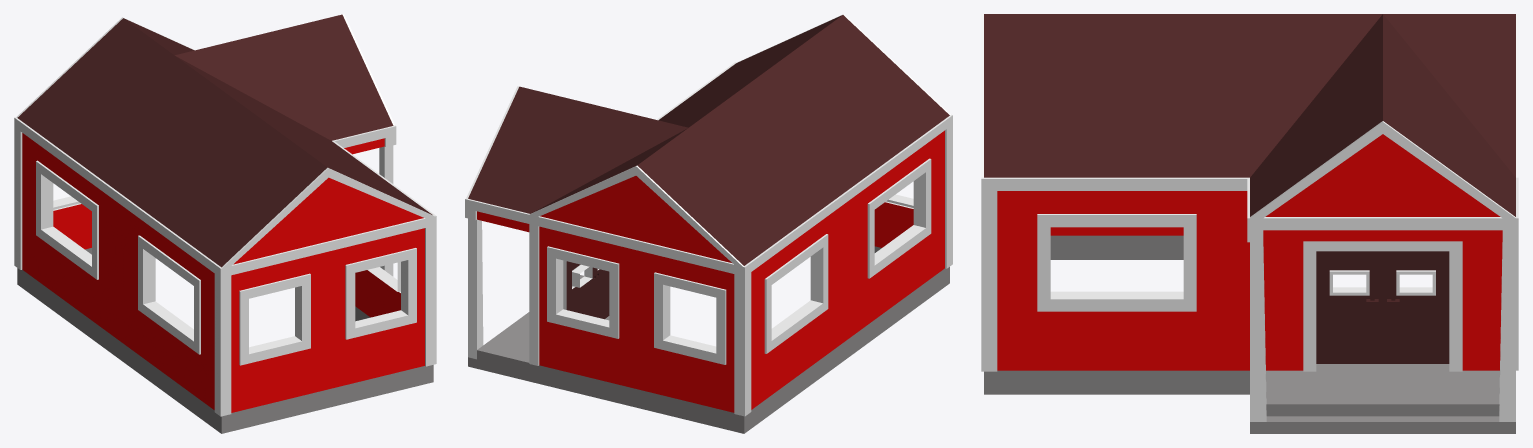
File: house.fbx
The picture shows the model from 3 angles, left to right: view 1: azimuth 30°, elevation 25°; view 2: azimuth 150°, elevation 25°; view 3: azimuth 270°, elevation 25°; orthographic projection. The views are drawn at different scales.
Visible parts, largest first — view 1: House; view 2: House; view 3: House.
Part boxes in pixels (x1=…): House: x1=14, y1=14, x2=436, y2=433; House: x1=465, y1=14, x2=952, y2=433; House: x1=981, y1=14, x2=1518, y2=433.
Size of the model in its own units: 786 by 650 by 1011.
Materials: 1 (1 with a texture image).
